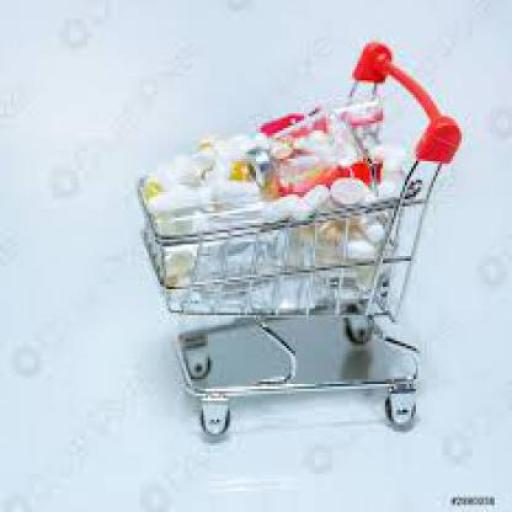shopping_cart: (135, 42, 467, 442)
